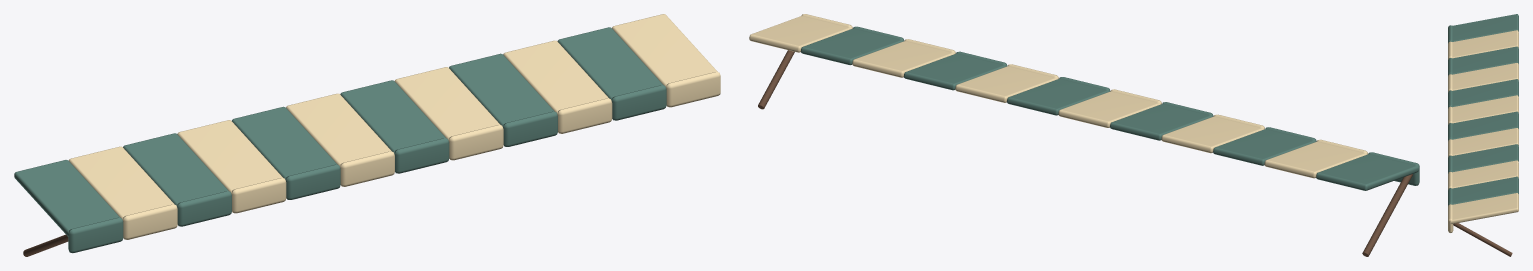
File: shop-awning.glb
3 renders of one model, left to right at view 1: azimuth 30°, elevation 25°; view 2: azimuth 150°, elevation 25°; view 3: azimuth 270°, elevation 25°, orthographic. The views are drawn at different scales.
Parts seen in each view (by area): view 1: shop-awning_teal, shop-awning_cream; view 2: shop-awning_teal, shop-awning_cream, shop-awning_timber; view 3: shop-awning_cream, shop-awning_teal, shop-awning_timber.
Part boxes in pixels (x1,y1,x2,y2): shop-awning_teal: (14, 27, 666, 253); shop-awning_cream: (68, 14, 720, 239); shop-awning_teal: (801, 26, 1419, 190); shop-awning_cream: (749, 14, 1367, 178); shop-awning_timber: (758, 50, 1412, 256); shop-awning_cream: (1448, 30, 1518, 232); shop-awning_teal: (1448, 14, 1518, 205); shop-awning_timber: (1453, 223, 1512, 256).
Bounding box in the file's own units: 5.4 × 0.6489 × 0.8286.
